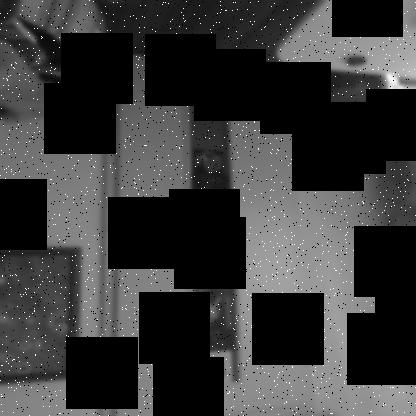Porte: (102, 46, 316, 415)
